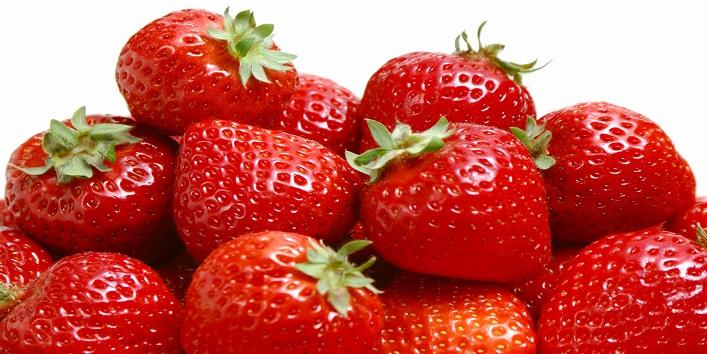strawberry: (352, 116, 560, 289), (171, 228, 396, 354), (2, 111, 176, 248), (107, 2, 297, 126), (173, 117, 360, 239), (536, 231, 707, 354), (1, 252, 181, 354), (549, 102, 692, 230)
